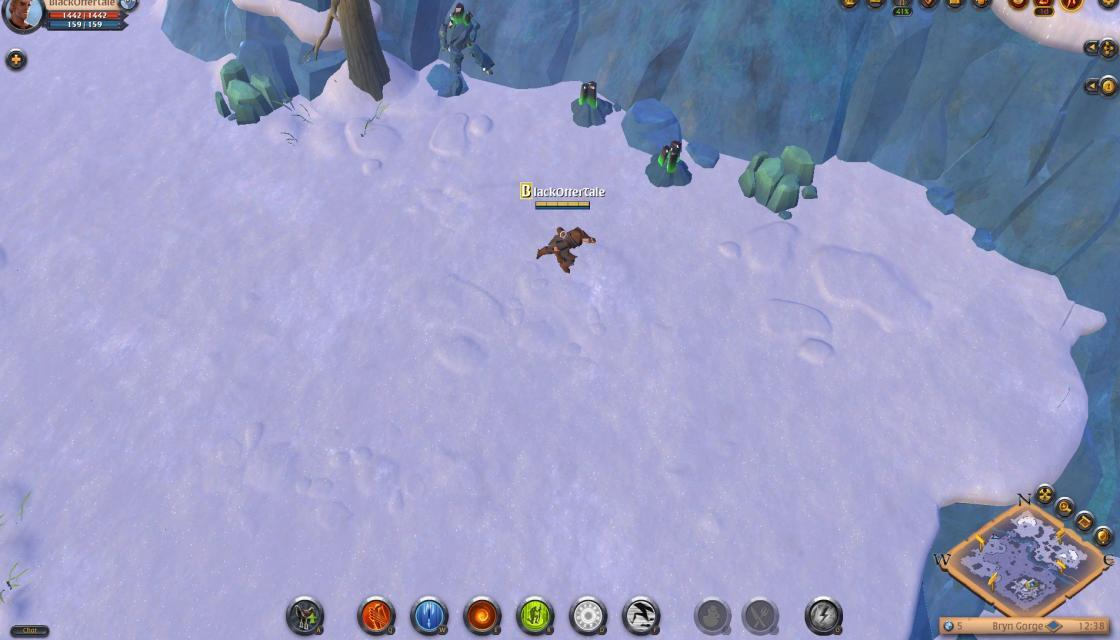sandstone: (741, 142, 821, 219), (210, 59, 286, 128)
tinore: (638, 138, 690, 189), (565, 78, 616, 128)
